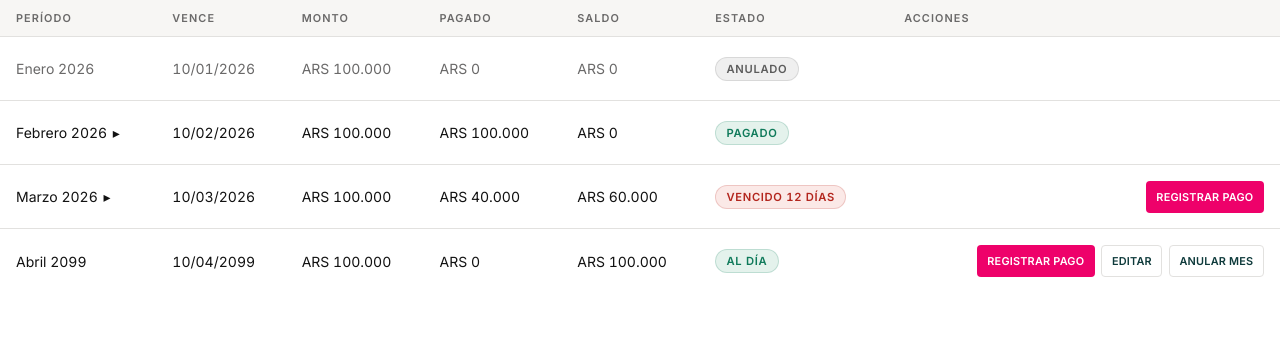
Scenario: un pago anulado se muestra con su motivo y sin acciones
Click the button "Marzo 2026 ▸". click: (63, 197)
box: [16,188,110,205]
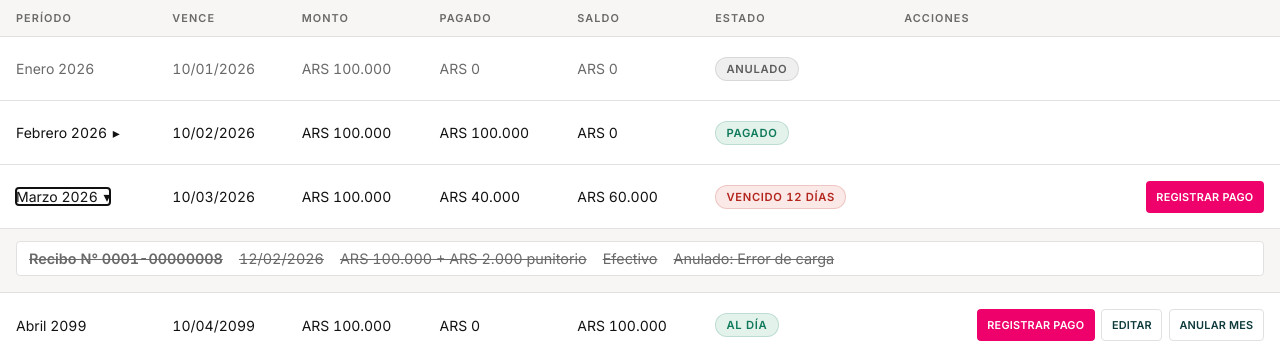
Check: the text "Anulado: Error de carga" is shown, box [674,250,834,267]
